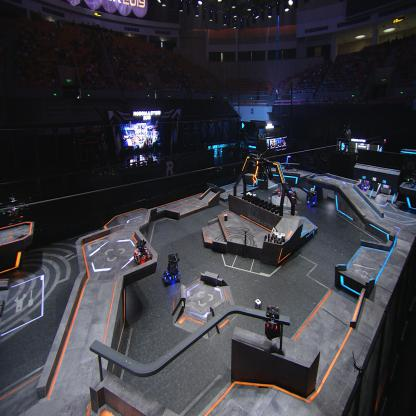car: (162, 251, 182, 286), (133, 238, 152, 265), (306, 188, 318, 206), (277, 180, 289, 196), (288, 190, 297, 204), (360, 181, 368, 192)
